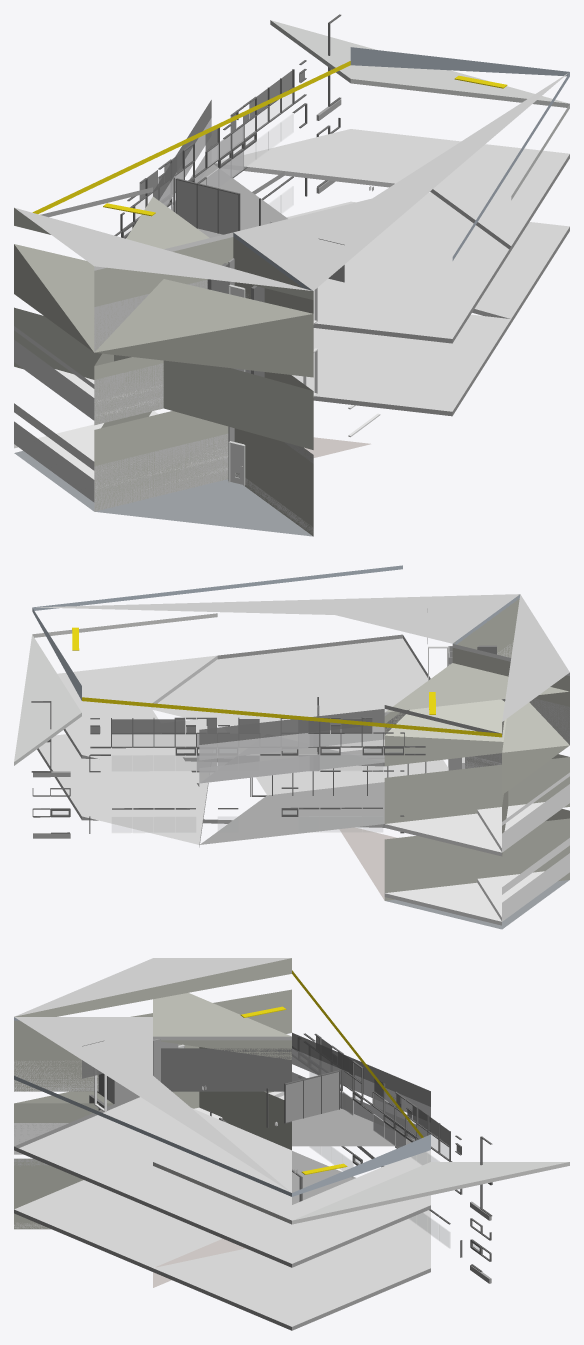
Rendered from pt-111-puesto-mando-shell-p03-v00.glb.
3 renders of one model, top to bottom at view 1: azimuth 30°, elevation 25°; view 2: azimuth 150°, elevation 25°; view 3: azimuth 270°, elevation 25°, orthographic. The views are drawn at different scales.
Parts seen in each view (by area): view 1: object 7, object 2, object 5, object 6, object 8, object 1, object 13, 0i7wIpcAL9hP2HhayL$0qY, object 3, 0i7wIpcAL9hP2HhayL$0qd, 0i7wIpcAL9hP2HhayL$0qk, object 4 (+1 smaller); view 2: object 2, object 7, object 5, object 1, object 4, object 3, object 13, object 6, object 8; view 3: object 2, object 7, object 5, object 1, object 4, object 3, object 6, 0i7wIpcAL9hP2HhayL$0qY, 0i7wIpcAL9hP2HhayL$0qk, 0i7wIpcAL9hP2HhayL$0qd, object 13.
Boxes of the visible parts, box(x1,y1,x2,y2) form: object 7: box(14, 196, 313, 536); object 2: box(94, 20, 569, 457); object 5: box(14, 47, 569, 290); object 6: box(94, 280, 313, 511); object 8: box(14, 294, 312, 536); object 1: box(40, 154, 569, 416); object 13: box(32, 61, 350, 213); 0i7wIpcAL9hP2HhayL$0qY: box(197, 185, 217, 233); object 3: box(153, 100, 211, 200); 0i7wIpcAL9hP2HhayL$0qd: box(218, 190, 238, 234); 0i7wIpcAL9hP2HhayL$0qk: box(176, 180, 196, 227); object 4: box(159, 118, 211, 212); object 2: box(14, 613, 569, 900); object 7: box(384, 595, 569, 925); object 5: box(32, 565, 569, 721); object 1: box(37, 634, 501, 844); object 4: box(199, 726, 384, 783); object 3: box(199, 709, 384, 744); object 13: box(82, 697, 501, 737); object 6: box(384, 698, 569, 768); object 8: box(385, 645, 569, 929); object 2: box(14, 1097, 569, 1326); object 7: box(14, 958, 291, 1229); object 5: box(14, 958, 430, 1196); object 1: box(14, 1094, 430, 1330); object 4: box(292, 1048, 430, 1139); object 3: box(292, 1032, 430, 1106); object 6: box(14, 1036, 291, 1166); 0i7wIpcAL9hP2HhayL$0qY: box(304, 1076, 320, 1118); 0i7wIpcAL9hP2HhayL$0qk: box(322, 1072, 338, 1113); 0i7wIpcAL9hP2HhayL$0qd: box(286, 1081, 302, 1122); object 13: box(292, 970, 423, 1137).
Bounding box in the file's own units: 32 × 13.55 × 32.
